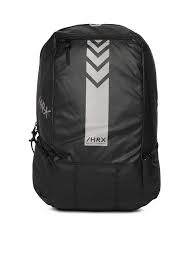backpack: (29, 23, 161, 211)
